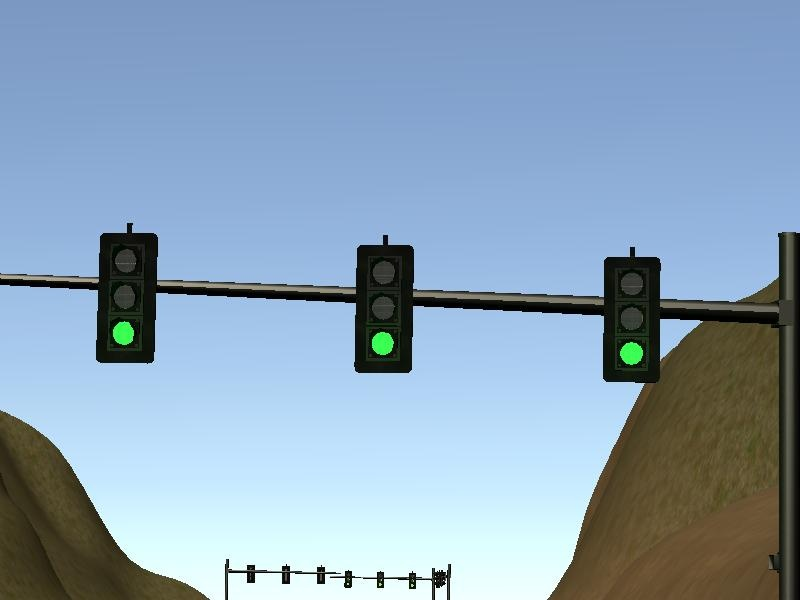GREEN: (97, 234, 158, 365), (602, 257, 660, 383), (354, 246, 412, 372)
